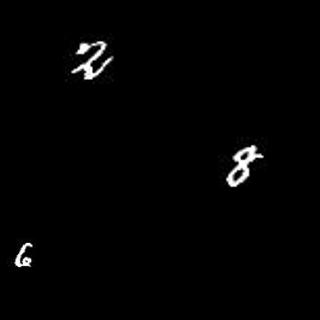eight: (222, 142, 264, 187)
six: (15, 240, 33, 268)
two: (72, 38, 114, 74)
